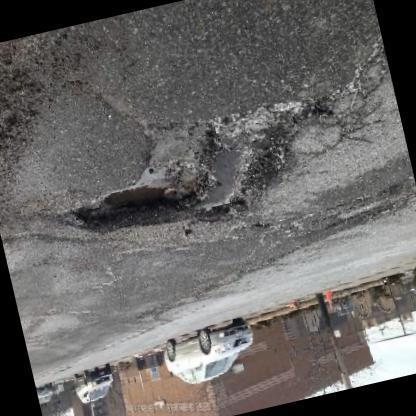pothole: (57, 95, 341, 233)
